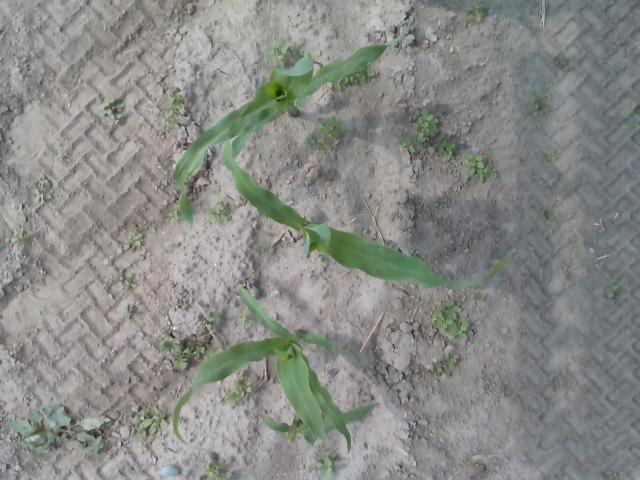Maize: (220, 128, 518, 292), (170, 28, 408, 228), (172, 287, 380, 452), (262, 403, 380, 445)
Weeds: (11, 407, 110, 456), (430, 300, 472, 346), (165, 337, 204, 368), (138, 408, 170, 434), (416, 114, 441, 144), (467, 152, 490, 182), (166, 89, 185, 117), (206, 458, 230, 480), (267, 38, 291, 58), (524, 98, 548, 118), (468, 4, 488, 24), (102, 100, 124, 118), (320, 120, 341, 138), (210, 206, 230, 224), (125, 233, 144, 250), (442, 354, 462, 370), (316, 458, 336, 474), (436, 140, 456, 156), (235, 376, 252, 394), (304, 134, 324, 148), (33, 189, 52, 202), (10, 230, 26, 244), (544, 208, 558, 223), (356, 70, 374, 81), (208, 316, 222, 330), (428, 366, 443, 379), (230, 390, 246, 402), (606, 283, 618, 297), (119, 274, 131, 288), (402, 140, 417, 151), (168, 208, 178, 224), (550, 147, 562, 160), (346, 340, 356, 355), (60, 152, 72, 164), (108, 116, 121, 126), (240, 314, 249, 328), (555, 55, 567, 65), (39, 174, 48, 186)
